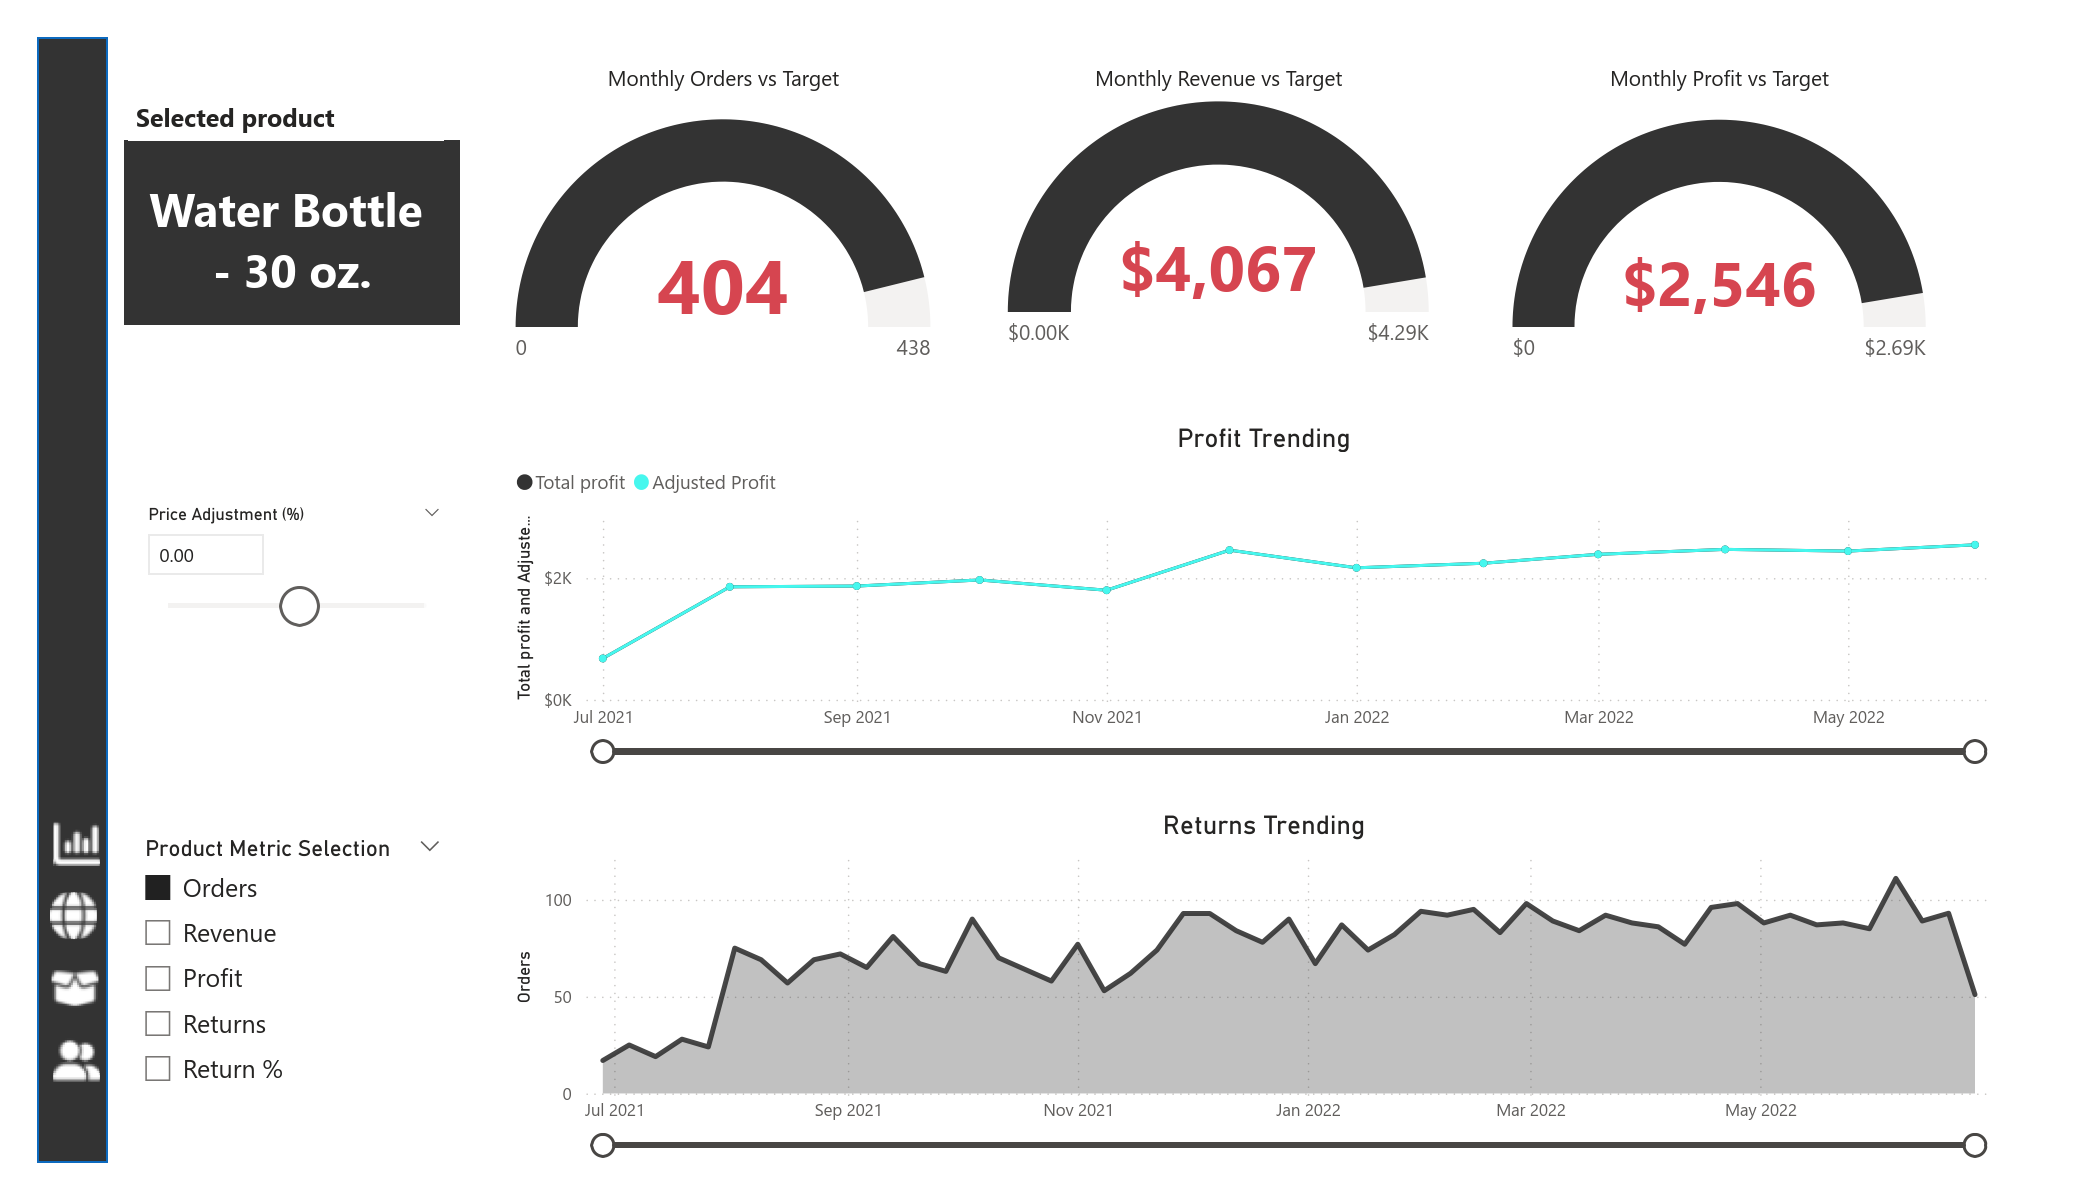

The dashboard page shown, as its layout file describes it:
{"tool":"powerbi","page":{"name":"Product Detail","canvas":[1280,720],"ordinal":2},"visuals":[{"type":"shape","box":[0,0,45,720],"z":0},{"type":"actionButton","box":[6.1,497.5,66.2,37.5],"z":0,"group":"g1"},{"type":"gauge","title":"Monthly Orders vs Target","fields":{"Y":["Table.Total orders"],"MaxValue":["Table.order target"]},"box":[301.4,17.1,275.7,212.9],"z":1000},{"type":"actionButton","box":[3.7,542.9,66,37.9],"z":1000,"group":"g1"},{"type":"gauge","title":"Monthly Revenue vs Target","fields":{"Y":["Table.Total Revenue"],"MaxValue":["Table.Revenue Target"]},"box":[616.1,17.3,279.9,191.9],"z":2000},{"type":"actionButton","box":[4.9,589.4,55,37.9],"z":2000,"group":"g1"},{"type":"gauge","title":"Monthly Profit vs Target","fields":{"Y":["Table.Total profit"],"MaxValue":["Table.Profit Target"]},"box":[938.6,17.1,275.7,212.9],"z":3000},{"type":"actionButton","box":[6.1,635.9,66,37.9],"z":3000,"group":"g1"},{"type":"card","fields":{"Values":["Min(Product Lookup.ProductName)"]},"box":[56.2,66.2,213.8,117.5],"z":4000},{"type":"textbox","box":[57.7,34.6,202,31.7],"z":5000},{"type":"group","id":"g1","title":"Navigation buttons","box":[3.7,497.5,68.7,176.3],"z":6000},{"type":"lineChart","title":"Profit Trending","fields":{"Y":["Table.Total profit","Table.Adjusted Profit"],"Category":["Calendar Lookup.Date Hierarchy.Year","Calendar Lookup.Date Hierarchy.Start of Month","Calendar Lookup.Date Hierarchy.Start of Week","Calendar Lookup.Date Hierarchy.Date"]},"box":[301.2,246.2,967.5,221.2],"z":7000},{"type":"areaChart","title":"Returns Trending","fields":{"Y":["Table.Total orders"],"Category":["Calendar Lookup.Year","Calendar Lookup.Start of Quarter","Calendar Lookup.Start of Month","Calendar Lookup.Start of Week"]},"box":[301.2,493.8,967.5,226.2],"z":8000},{"type":"slicer","fields":{"Values":["Price Adjustment (%).Price Adjustment (%)"]},"box":[57.5,293.8,212.5,132.5],"z":9000},{"type":"slicer","fields":{"Values":["Product Metric Selection.Product Metric Selection"]},"box":[56.2,506.2,213.8,185],"z":10000}]}

Visuals, with their boxes on the page's 1280x720 design canvas (x1, y1, x2, y2). These are canvas units, not pixel positions in the 2075x1200 screenshot, which may show the page scaled, cropped or inside an application window:
shape: {"x1": 0, "y1": 0, "x2": 45, "y2": 720}
actionButton: {"x1": 6, "y1": 498, "x2": 72, "y2": 535}
"Monthly Orders vs Target" gauge: {"x1": 301, "y1": 17, "x2": 577, "y2": 230}
actionButton: {"x1": 4, "y1": 543, "x2": 70, "y2": 581}
"Monthly Revenue vs Target" gauge: {"x1": 616, "y1": 17, "x2": 896, "y2": 209}
actionButton: {"x1": 5, "y1": 589, "x2": 60, "y2": 627}
"Monthly Profit vs Target" gauge: {"x1": 939, "y1": 17, "x2": 1214, "y2": 230}
actionButton: {"x1": 6, "y1": 636, "x2": 72, "y2": 674}
card - Min(Product Lookup.ProductName): {"x1": 56, "y1": 66, "x2": 270, "y2": 184}
textbox: {"x1": 58, "y1": 35, "x2": 260, "y2": 66}
"Navigation buttons" group: {"x1": 4, "y1": 498, "x2": 72, "y2": 674}
"Profit Trending" lineChart: {"x1": 301, "y1": 246, "x2": 1269, "y2": 467}
"Returns Trending" areaChart: {"x1": 301, "y1": 494, "x2": 1269, "y2": 720}
slicer - Price Adjustment (%).Price Adjustment (%): {"x1": 58, "y1": 294, "x2": 270, "y2": 426}
slicer - Product Metric Selection.Product Metric Selection: {"x1": 56, "y1": 506, "x2": 270, "y2": 691}
